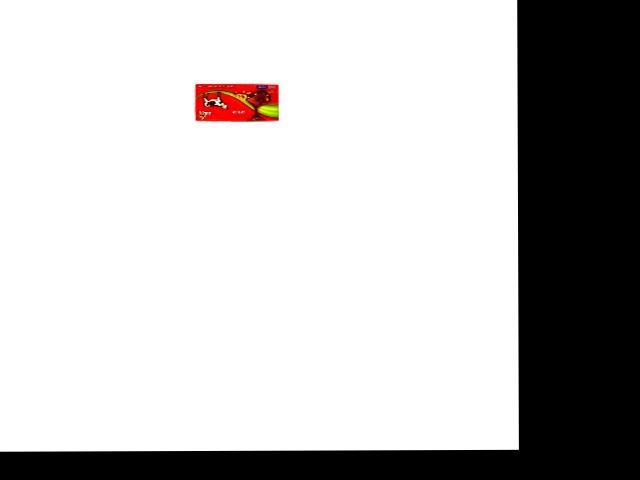chocolate: (189, 76, 280, 124)
